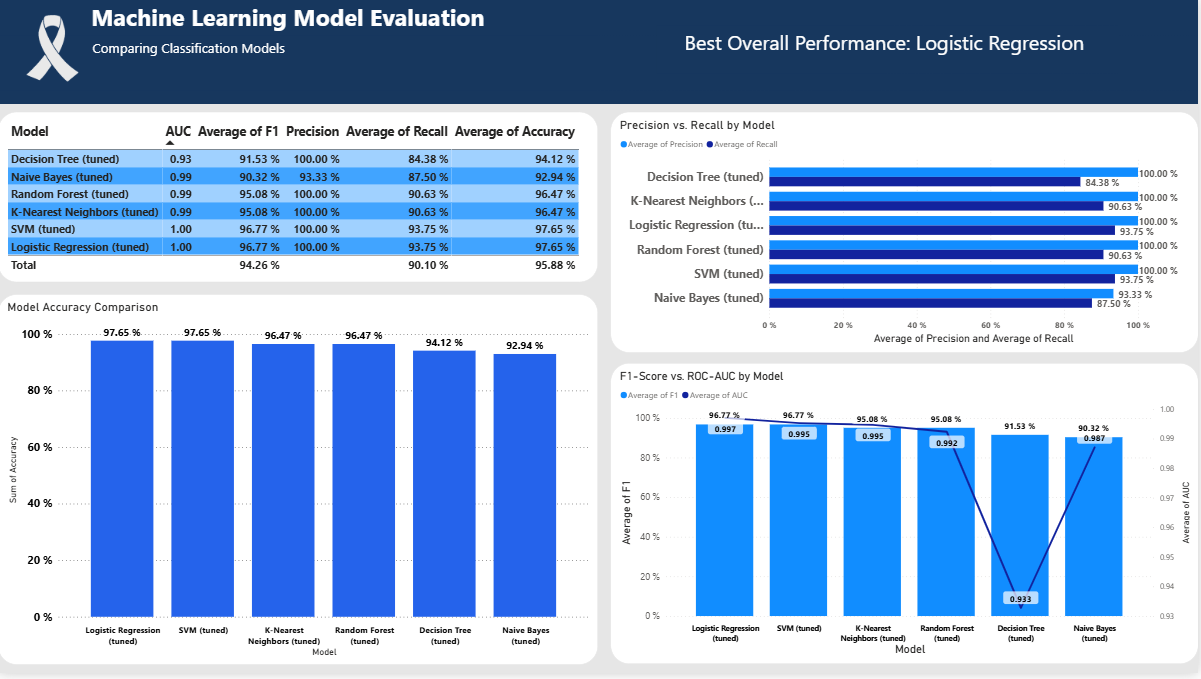

This screenshot's page, from the dashboard's own definition file:
{"tool":"powerbi","page":{"name":"Page 3","canvas":[1920,1080],"ordinal":2},"visuals":[{"type":"shape","box":[0,0,1920.8,89.3],"z":0},{"type":"textbox","box":[0,0,1920.8,169.6],"z":1000},{"type":"textbox","box":[0,60,1920,88],"z":2000},{"type":"image","box":[10,10,152,148],"z":3000},{"type":"tableEx","fields":{"Values":["model_results.Model","model_results.AUC","Avg(model_results.F1)","model_results.Precision","Avg(model_results.Recall)","Avg(model_results.Accuracy)"]},"box":[0,182.1,960.4,273.1],"z":4000},{"type":"clusteredColumnChart","title":"Model Accuracy Comparison","fields":{"Category":["model_results.Model"],"Y":["Sum(model_results.Accuracy)"]},"box":[0,473.1,960.4,592.7],"z":5000},{"type":"clusteredBarChart","title":"Precision vs. Recall by Model","fields":{"Y":["Avg(model_results.Precision)","Avg(model_results.Recall)"],"Category":["model_results.Model"]},"box":[980,182.1,940.8,385.6],"z":6000},{"type":"lineClusteredColumnComboChart","title":"F1-Score vs. ROC-AUC by Model","fields":{"Category":["model_results.Model"],"Y":["Avg(model_results.F1)"],"Y2":["Avg(model_results.AUC)"]},"box":[980,583.7,940.8,482],"z":7000},{"type":"textbox","box":[1053.2,44.6,737.3,76.8],"z":8000}]}

Visuals, with their boxes in screenshot pixels (x1, y1, x2, y2), scaled from the page's 1920x1080 canvas onto the 1201x679 screenshot:
shape: [left=0, top=0, right=1200, bottom=56]
textbox: [left=0, top=0, right=1200, bottom=107]
textbox: [left=0, top=38, right=1200, bottom=93]
image: [left=6, top=6, right=101, bottom=99]
tableEx - model_results.Model x model_results.AUC: [left=0, top=114, right=601, bottom=286]
"Model Accuracy Comparison" clusteredColumnChart: [left=0, top=297, right=601, bottom=670]
"Precision vs. Recall by Model" clusteredBarChart: [left=613, top=114, right=1200, bottom=357]
"F1-Score vs. ROC-AUC by Model" lineClusteredColumnComboChart: [left=613, top=367, right=1200, bottom=670]
textbox: [left=659, top=28, right=1120, bottom=76]
